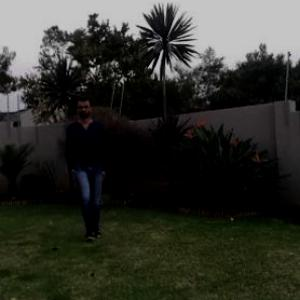follow: (68, 93, 110, 234)
